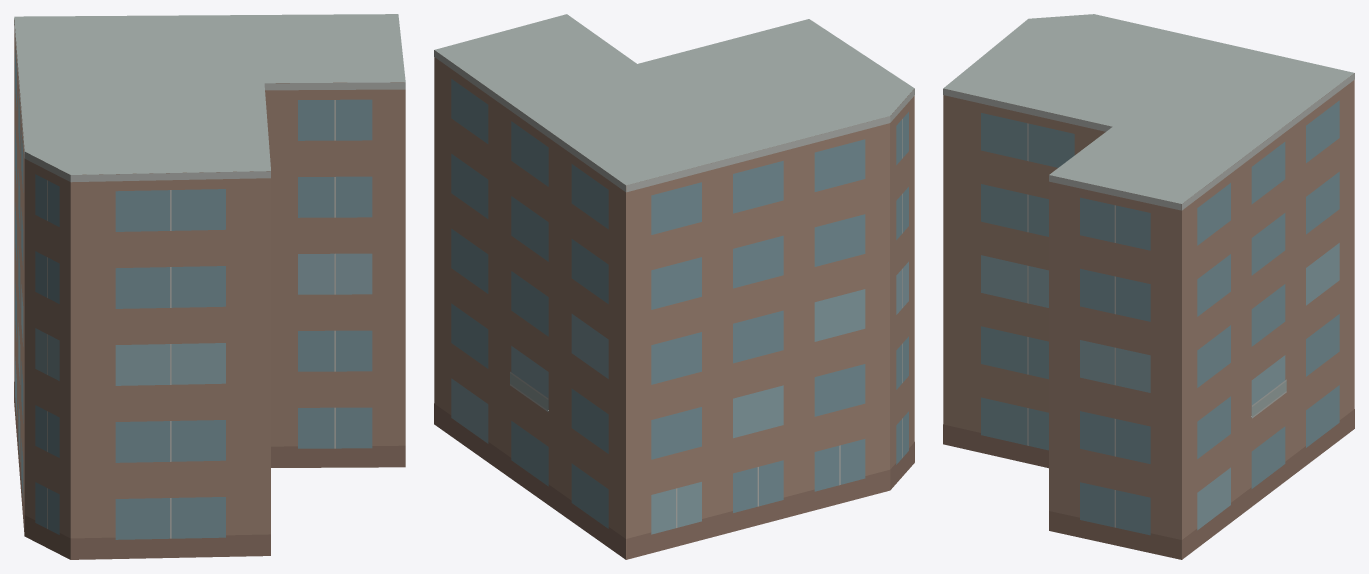
Rendered from survey-upis-32628939.glb.
The picture shows the model from 3 angles, left to right: view 1: azimuth 30°, elevation 25°; view 2: azimuth 150°, elevation 25°; view 3: azimuth 270°, elevation 25°; orthographic projection. The views are drawn at different scales.
Visible parts, largest first — view 1: survey-upis-32628939.tmp; view 2: survey-upis-32628939.tmp; view 3: survey-upis-32628939.tmp.
Part boxes in pixels (x1,y1,x2,y2): survey-upis-32628939.tmp: (14,14,405,559); survey-upis-32628939.tmp: (434,14,914,559); survey-upis-32628939.tmp: (943,14,1354,559).
Bounding box in the file's own units: 15.01 × 13.1 × 13.74.
